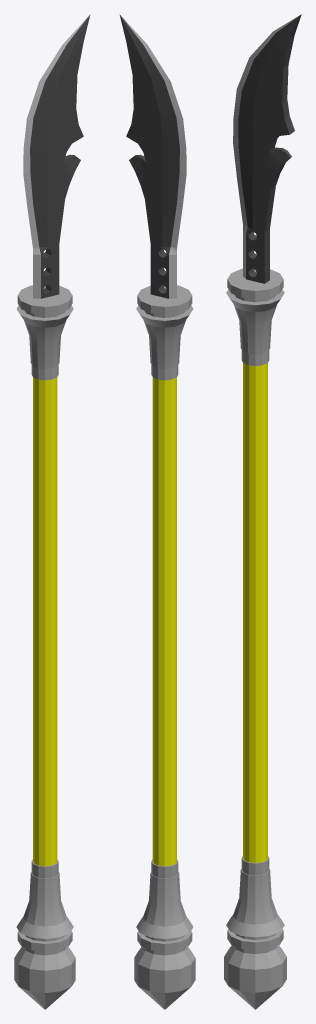
File: Spear_03.fbx
3 views of the same model, side by side, from view 1: azimuth 30°, elevation 25°; view 2: azimuth 150°, elevation 25°; view 3: azimuth 330°, elevation 25° (orthographic). The views are drawn at different scales.
Parts seen in each view (by area): view 1: Spear_03; view 2: Spear_03; view 3: Spear_03.
Part boxes in pixels (x1,y1,x2,y2): Spear_03: (14, 14, 90, 1009); Spear_03: (119, 14, 195, 1009); Spear_03: (224, 14, 301, 1009).
Size of the model in its own units: 1.35 by 17.65 by 0.9963.
